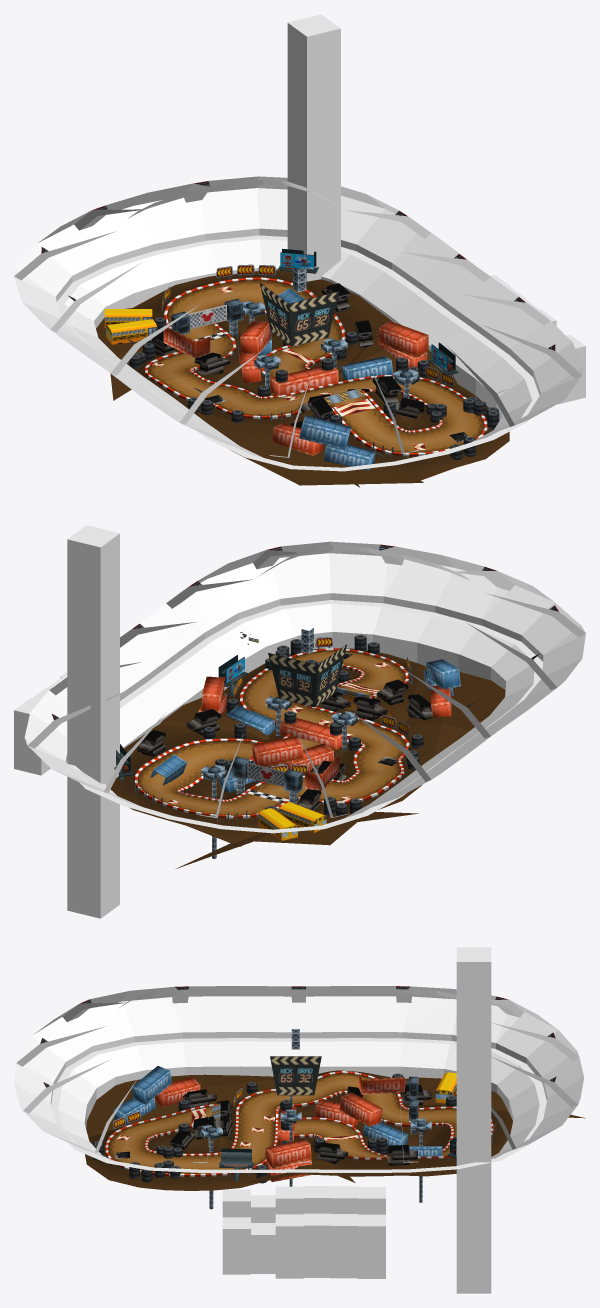
File: Tutorial Track.glb
3 renders of one model, top to bottom at view 1: azimuth 30°, elevation 25°; view 2: azimuth 150°, elevation 25°; view 3: azimuth 270°, elevation 25°, orthographic. The views are drawn at different scales.
Visible parts, largest first — view 1: stadium_piece, dirt_road, Cube (×2), dirt_road2, Red Crate (×5), Plane_001, scorebox, Blue Crate (×3), school bus (×2), Finish Banner, Plane_002, Plane; view 2: stadium_piece, Cube (×2), dirt_road, dirt_road2, Red Crate (×6), Plane_001, scorebox, junk heap (×5), Plane_002, Finish Banner, school bus (×2), Blue Crate (×2) (+3 smaller); view 3: stadium_piece, Cube (×13), dirt_road, dirt_road2, Red Crate (×5), Plane_001, Blue Crate (×3), scorebox, junk heap (×2), Plane, Billboard Kick, Plane_002 (+2 smaller).
Boxes of the visible parts, <box> form: stadium_piece: <box>14,176,582,471</box>; dirt_road: <box>133,270,508,480</box>; Cube (×2): <box>287,14,585,404</box>; dirt_road2: <box>272,375,509,487</box>; Red Crate (×5): <box>163,321,428,455</box>; Plane_001: <box>194,411,423,485</box>; scorebox: <box>259,266,339,346</box>; Blue Crate (×3): <box>299,356,393,470</box>; school bus (×2): <box>104,309,157,344</box>; Finish Banner: <box>171,298,243,337</box>; Plane_002: <box>96,308,156,400</box>; Plane: <box>338,334,457,383</box>; stadium_piece: <box>24,541,585,833</box>; Cube (×2): <box>14,525,119,918</box>; dirt_road: <box>110,648,425,846</box>; dirt_road2: <box>224,648,426,743</box>; Red Crate (×6): <box>201,676,451,790</box>; Plane_001: <box>404,668,505,765</box>; scorebox: <box>268,628,346,707</box>; junk heap (×5): <box>137,679,432,756</box>; Plane_002: <box>176,811,418,868</box>; Finish Banner: <box>231,756,302,804</box>; school bus (×2): <box>258,802,326,840</box>; Blue Crate (×2): <box>226,659,460,735</box>; stadium_piece: <box>14,986,584,1172</box>; Cube (×13): <box>222,947,491,1293</box>; dirt_road: <box>87,1070,512,1190</box>; dirt_road2: <box>85,1103,280,1190</box>; Red Crate (×5): <box>155,1073,405,1168</box>; Plane_001: <box>86,1074,275,1136</box>; Blue Crate (×3): <box>113,1066,408,1147</box>; scorebox: <box>270,1029,321,1095</box>; junk heap (×2): <box>315,1142,417,1165</box>; Plane: <box>244,1155,355,1183</box>; Billboard Kick: <box>219,1148,253,1181</box>; Plane_002: <box>405,1077,585,1118</box>.
Bounding box in the file's own units: 725 × 594 × 929.
Materials: 31 (29 with a texture image).
